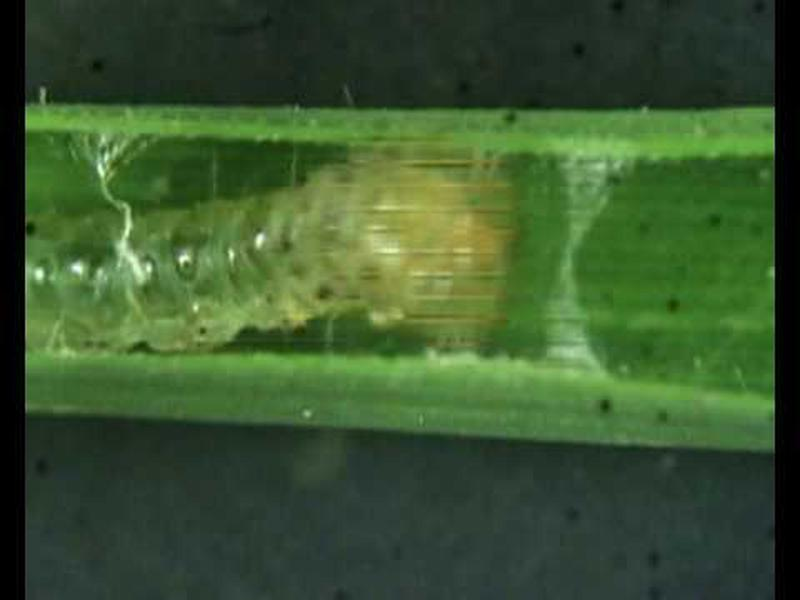Leaf_folder: (56, 154, 517, 385)
